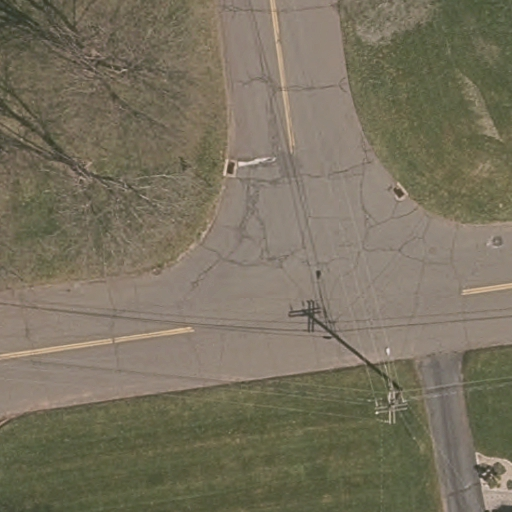DT: (373, 386, 412, 425)
